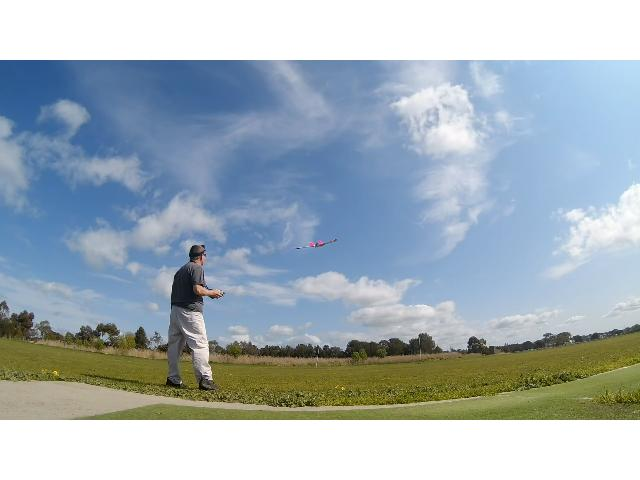Anti-Drone: (290, 238, 338, 250)
